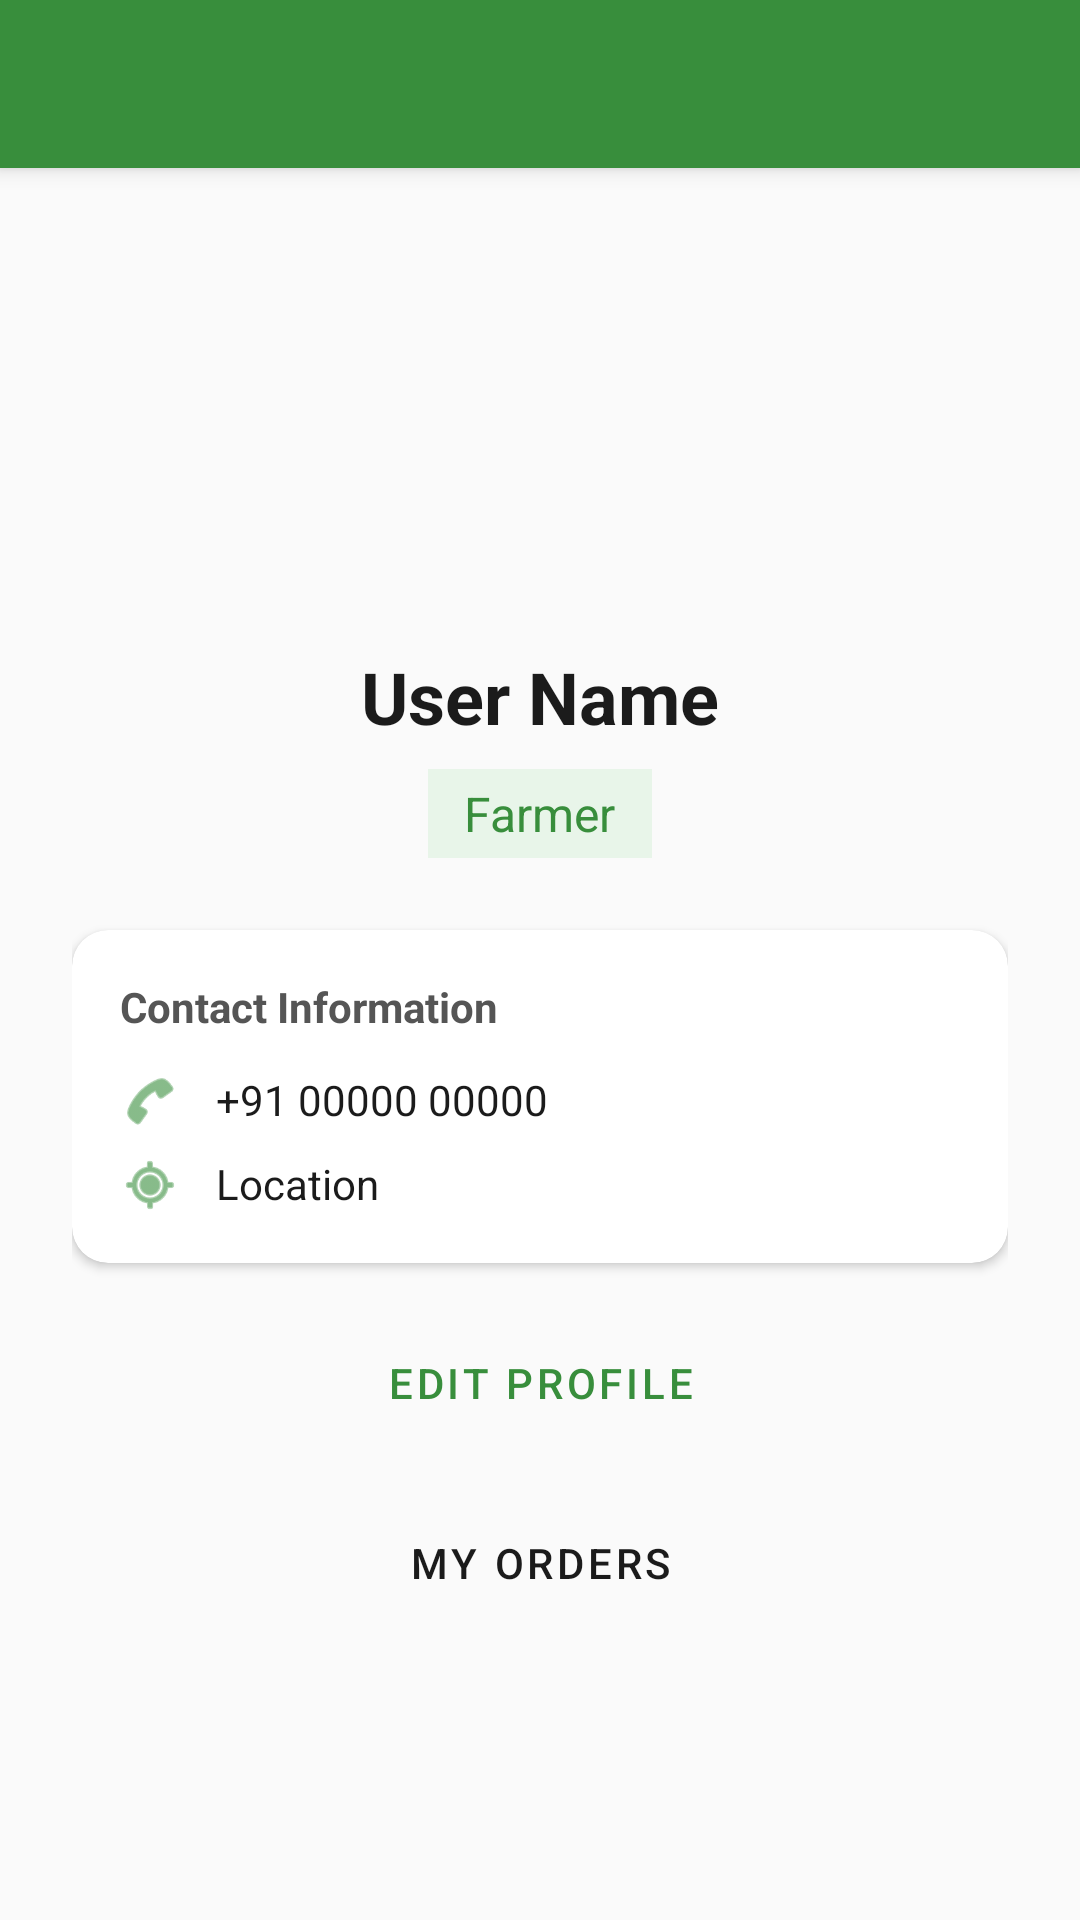

Locate icon controls on the screen. Image size 1080×1920, boxes as detection(x1, y1, x2, y2).
call: detection(127, 1078, 174, 1125)
